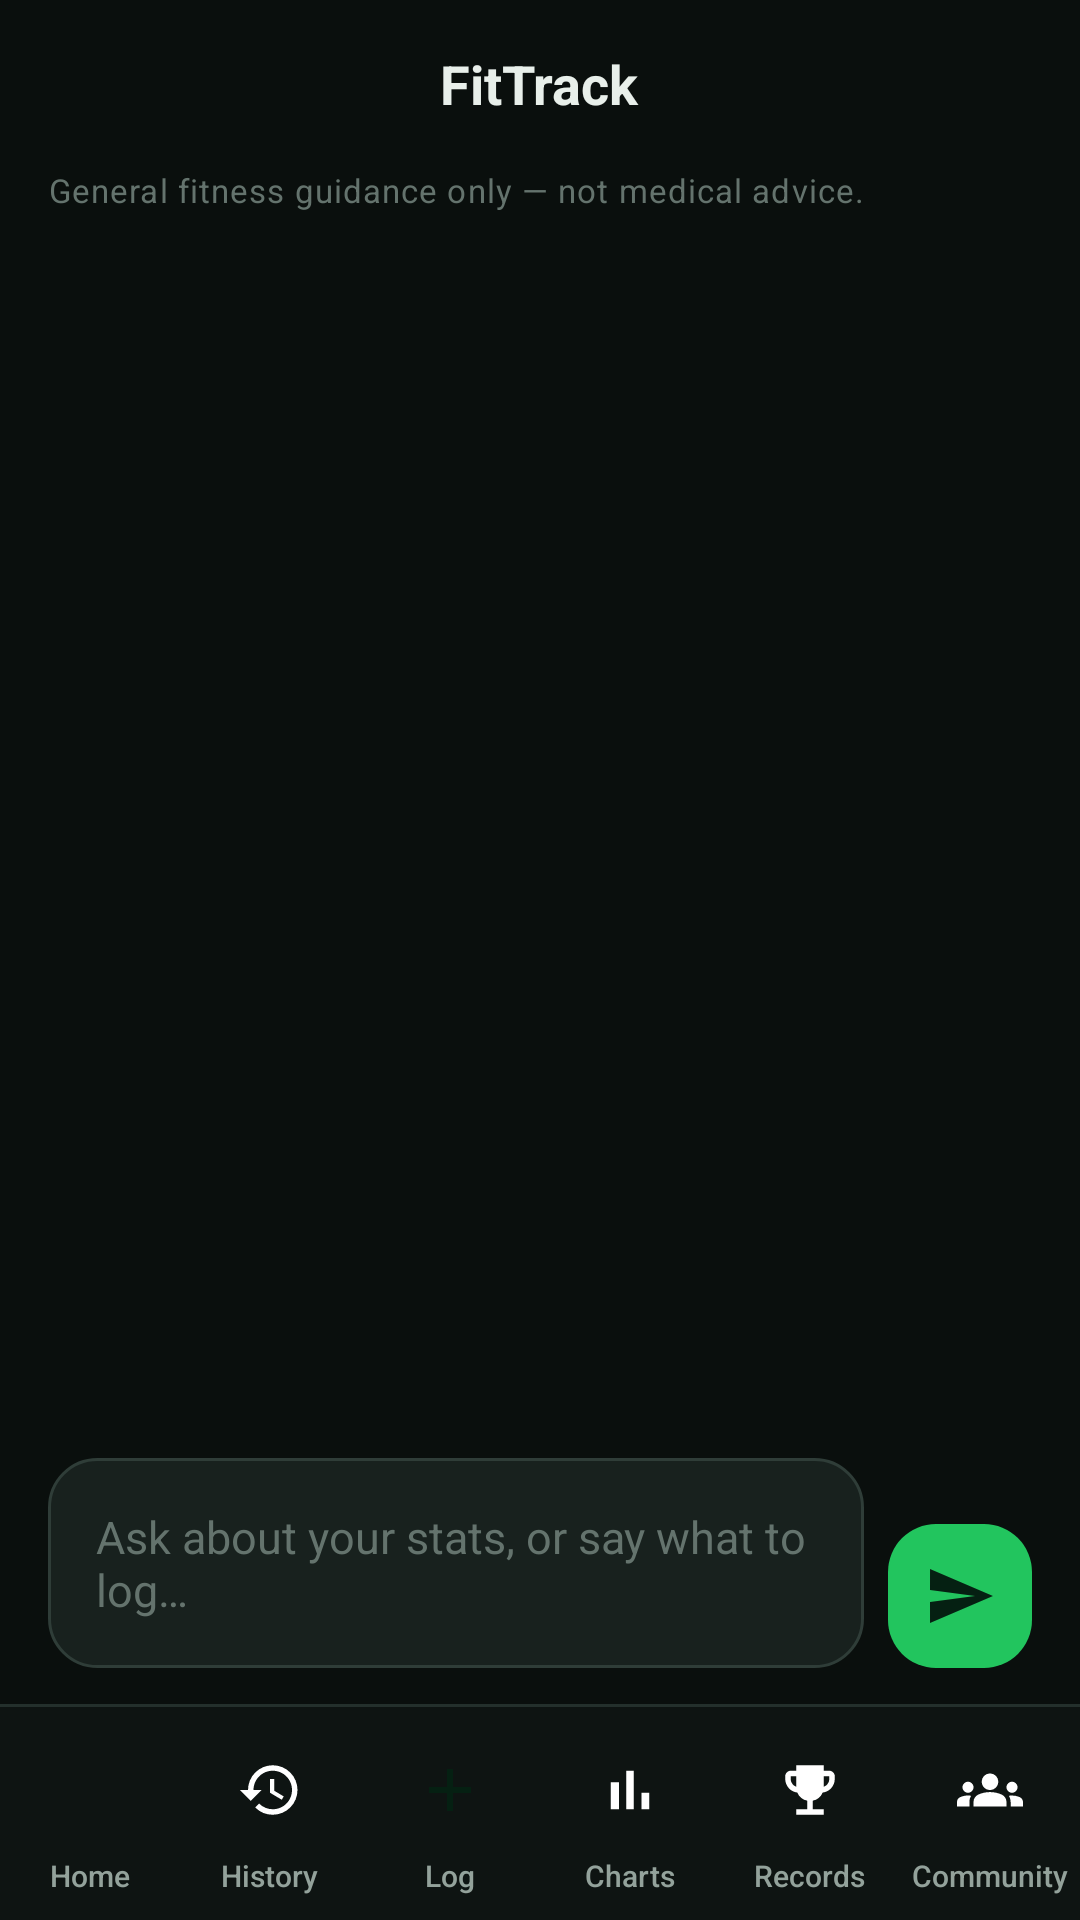

Locate icon controls on the screen. Image size 1080 × 1920, boxes as (x1, y1, x2, y2).
Send message: (888, 1524, 1032, 1668)
